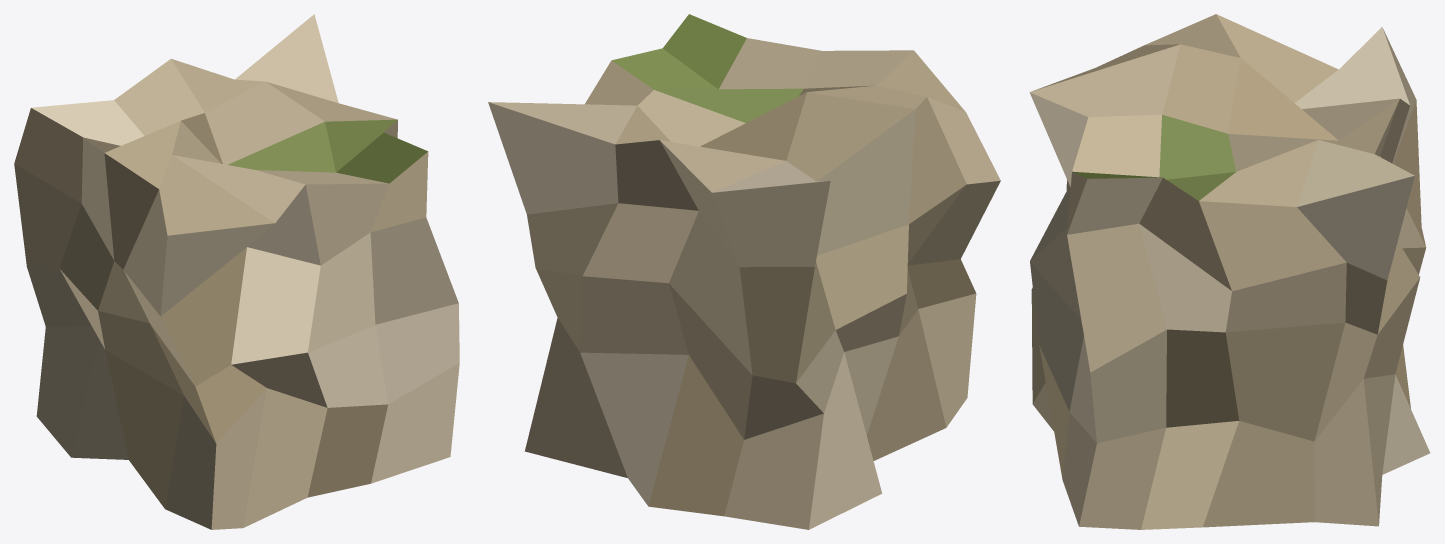
File: Limestone_a.fbx
3 views of the same model, side by side, from view 1: azimuth 30°, elevation 25°; view 2: azimuth 150°, elevation 25°; view 3: azimuth 270°, elevation 25° (orthographic). The views are drawn at different scales.
Visible parts, largest first — view 1: Limestone_a; view 2: Limestone_a; view 3: Limestone_a.
Part boxes in pixels (box(x1,y1,x2,y2)): Limestone_a: box(14, 14, 459, 529); Limestone_a: box(488, 14, 1000, 529); Limestone_a: box(1029, 14, 1430, 529).
Size of what is drawn, in the model's own units: 1 by 1 by 1.
